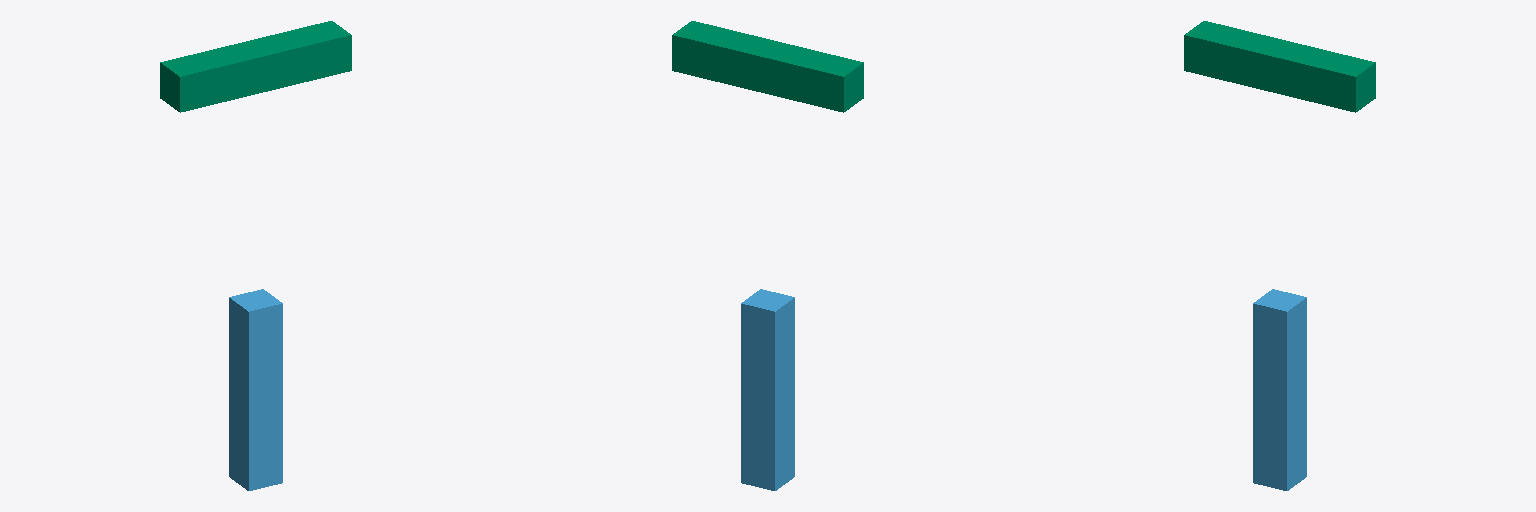
URDF robot description (rabota):
<?xml version="1.0"?>
<robot
  name="rabota">
  <link name="world">
  </link>
  <joint name="fixed" type="fixed">
    <parent link="world"/>
    <child link="link1"/>
  </joint>
  <!-- Base Link -->
  <link name="link1">
    <collision>
      <origin rpy="0 0 0" xyz="0 0 0.25"/>
      <geometry>
        <box size="0.1 0.1 0.5"/>
      </geometry>
    </collision>
    <visual>
      <origin rpy="0 0 0" xyz="0 0 0.25"/>
      <geometry>
        <box size="0.1 0.1 0.5"/>
      </geometry>
    </visual>
    <inertial>
      <origin rpy="0 0 0" xyz="0 0 0.25"/>
      <mass value="1"/>
      <inertia ixx="1.0" ixy="0.0" ixz="0.0" iyy="1.0" iyz="0.0" izz="1.0"/>
    </inertial>
  </link>

  <!-- Middle Link -->
  <link name="link2">
    <collision>
      <origin rpy="0 0 0" xyz="0 0 0.45"/>
      <geometry>
        <box size="0.5 0.1 0.1"/>
      </geometry>
    </collision>
    <visual>
      <origin rpy="0 0 0" xyz="0 0 0.45"/>
      <geometry>
        <box size="0.5 0.1 0.1"/>
      </geometry>
    </visual>
    <inertial>
      <origin rpy="0 0 0" xyz="0 0 0.45"/>
      <mass value="1"/>
      <inertia ixx="1.0" ixy="0.0" ixz="0.0" iyy="1.0" iyz="0.0" izz="1.0"/>
    </inertial>
  </link>

  <joint name="joint1" type="continuous">
    <parent link="link1"/>
    <child link="link2"/>
    <origin rpy="0 0 0" xyz="0 0 0.7"/>
    <axis xyz="0 0 1"/>
    <dynamics damping="0.7"/>
  </joint>
</robot>

--- What the picture shows (computed from the rendered views, not written in the file) ---
3 views of the same robot in one strip: view 1: azimuth 30°, elevation 25°; view 2: azimuth 150°, elevation 25°; view 3: azimuth 330°, elevation 25° (orthographic).
Model rabota with 3 links and 2 joints (1 continuous, 1 fixed), rooted at world, posed every joint at zero.
Visible links, largest first — view 1: link1, link2; view 2: link1, link2; view 3: link1, link2.
Link boxes in pixels (x1,y1,x2,y2): link1: [229, 289, 282, 490]; link2: [160, 21, 351, 112]; link1: [741, 289, 794, 490]; link2: [672, 21, 863, 112]; link1: [1253, 289, 1306, 490]; link2: [1184, 21, 1375, 112].
Size in the robot's own frame: 0.5 by 0.1 by 1.2 metres.
Geometry: primitives only (box / cylinder / sphere), no mesh files.
